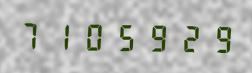five: (110, 19, 140, 53)
nine: (141, 20, 171, 53), (203, 21, 233, 54)
one: (48, 18, 78, 52)
seven: (17, 18, 47, 51)
two: (172, 20, 202, 54)
zero: (79, 19, 109, 52)
